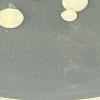white: (0, 6, 23, 29), (60, 0, 91, 13), (59, 9, 78, 22)
